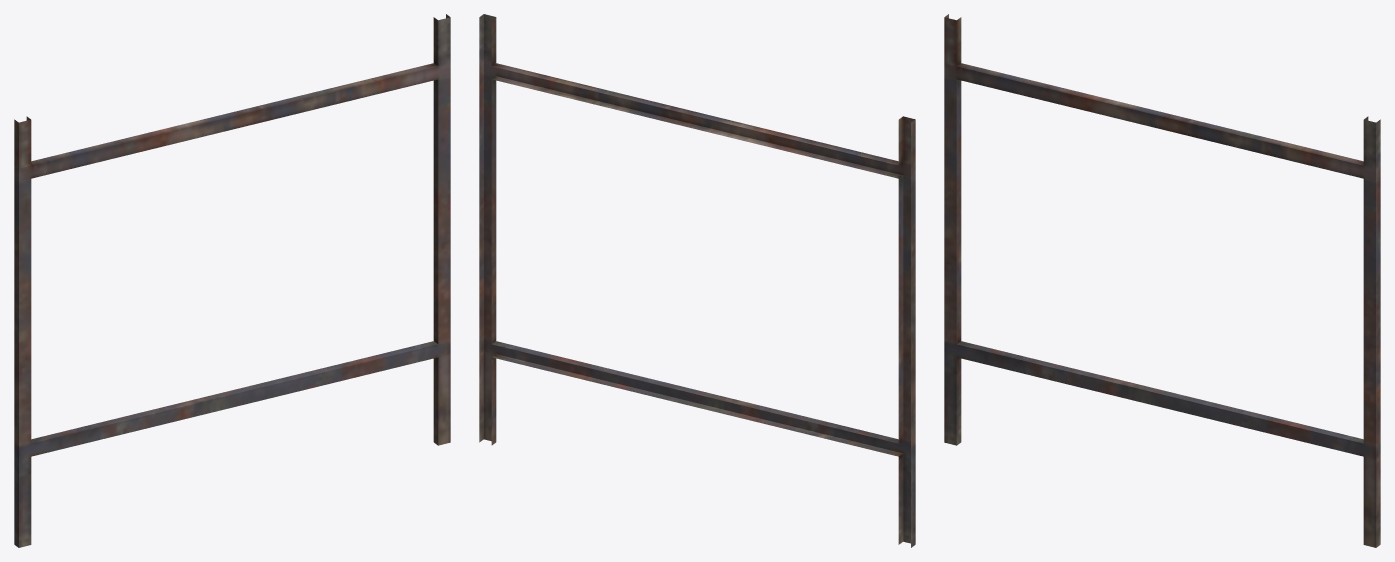
File: WindowTrims.FBX
The picture shows the model from 3 angles, left to right: view 1: azimuth 30°, elevation 25°; view 2: azimuth 150°, elevation 25°; view 3: azimuth 330°, elevation 25°; orthographic projection.
Parts seen in each view (by area): view 1: WindowTrims; view 2: WindowTrims; view 3: WindowTrims.
Part boxes in pixels (<box>): WindowTrims: <box>14,14,450,547</box>; WindowTrims: <box>479,14,915,547</box>; WindowTrims: <box>944,14,1380,547</box>.
Size of the model in its own units: 280 by 263 by 5.
